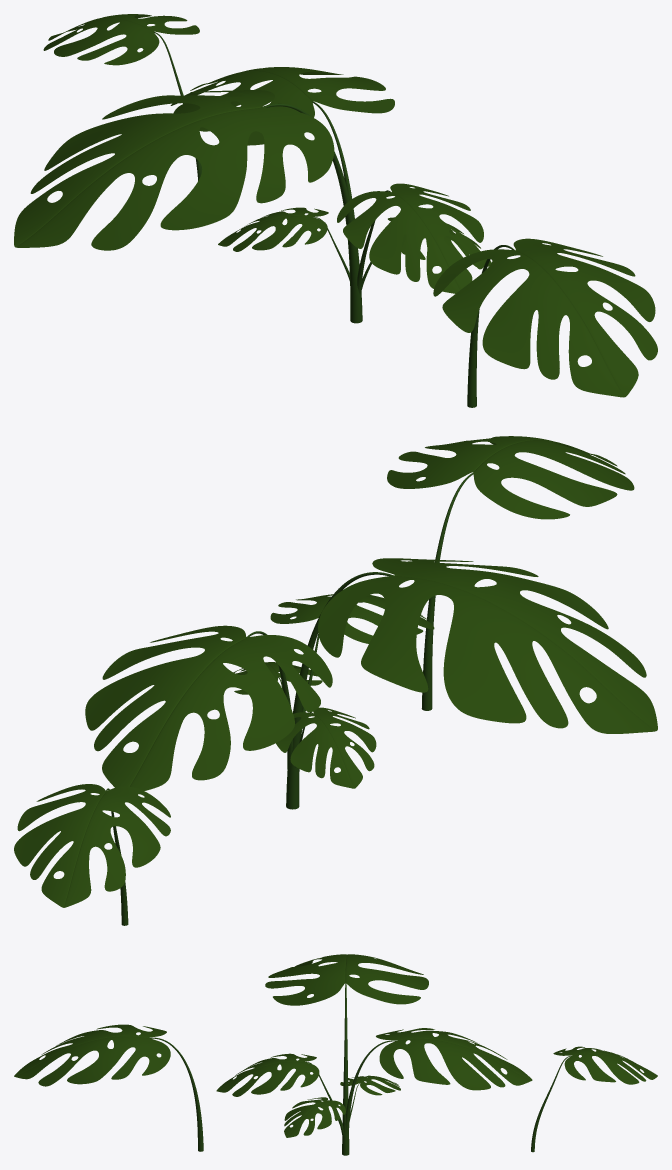
The model's file is Monstera_Plants.fbx.
The picture shows the model from 3 angles, top to bottom: view 1: azimuth 30°, elevation 25°; view 2: azimuth 150°, elevation 25°; view 3: azimuth 270°, elevation 25°; orthographic projection. The views are drawn at different scales.
Visible parts, largest first — view 1: Monstera_Batch, Leaf_1_Base, Leaf_2_Base; view 2: Monstera_Batch, Leaf_1_Base, Leaf_2_Base; view 3: Monstera_Batch, Leaf_1_Base, Leaf_2_Base.
Part boxes in pixels (x1,y1,x2,y2): Monstera_Batch: [14, 67, 491, 323]; Leaf_1_Base: [433, 238, 657, 407]; Leaf_2_Base: [43, 14, 202, 180]; Monstera_Batch: [85, 558, 657, 809]; Leaf_1_Base: [387, 436, 634, 710]; Leaf_2_Base: [14, 784, 170, 925]; Monstera_Batch: [216, 954, 532, 1155]; Leaf_1_Base: [14, 1024, 203, 1151]; Leaf_2_Base: [531, 1046, 657, 1152].
Bounding box in the file's own units: 916 × 487 × 1953.
